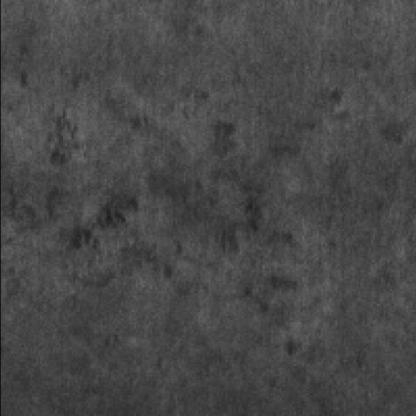rolled-in_scale: (6, 114, 190, 304)
